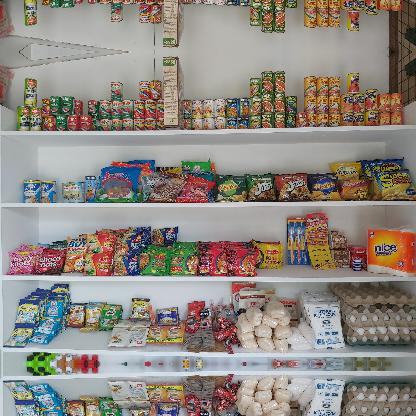Koko-Krunch: (162, 56, 184, 130), (162, 0, 184, 49)
